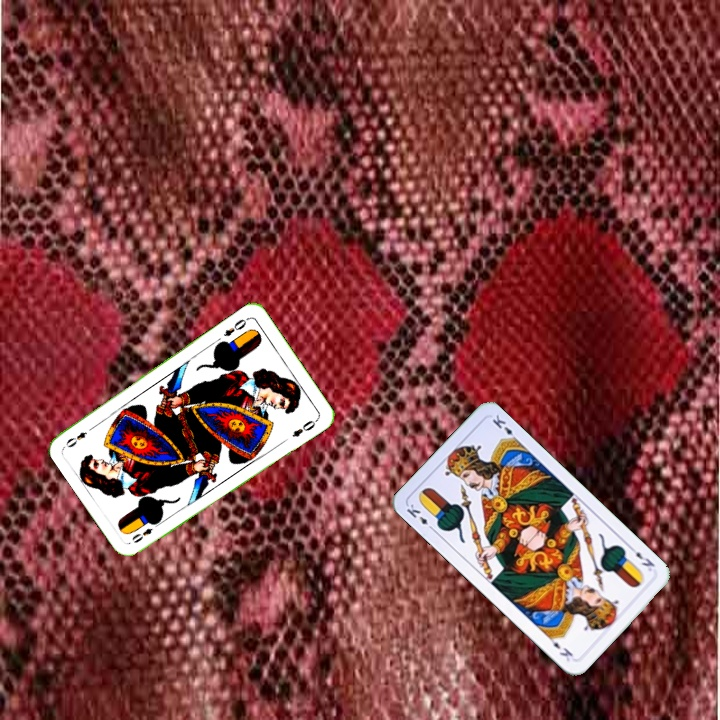EK: (402, 500, 437, 534), (625, 542, 657, 574)
EO: (127, 518, 163, 546), (219, 313, 251, 339)
